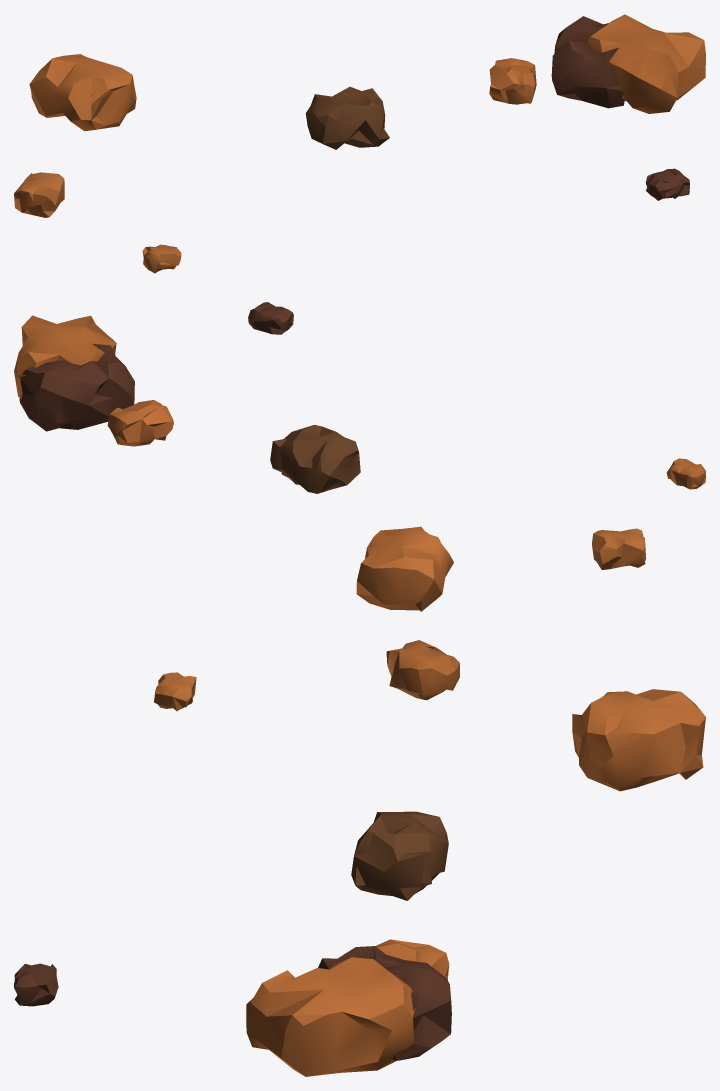
Rendered from frost_gc_crumbs_a.glb.
3 renders of one model, top to bottom at view 1: azimuth 30°, elevation 25°; view 2: azimuth 150°, elevation 25°; view 3: azimuth 270°, elevation 25°, orthographic. The views are drawn at different scales.
Parts seen in each view (by area): view 1: frost_gc_crumbs_a; view 2: frost_gc_crumbs_a; view 3: frost_gc_crumbs_a.
Part boxes in pixels (x1,y1,x2,y2): frost_gc_crumbs_a: (14,14,705,273); frost_gc_crumbs_a: (14,302,705,611); frost_gc_crumbs_a: (14,640,705,1076).
Bounding box in the file's own units: 3.45 × 0.3374 × 2.43.
